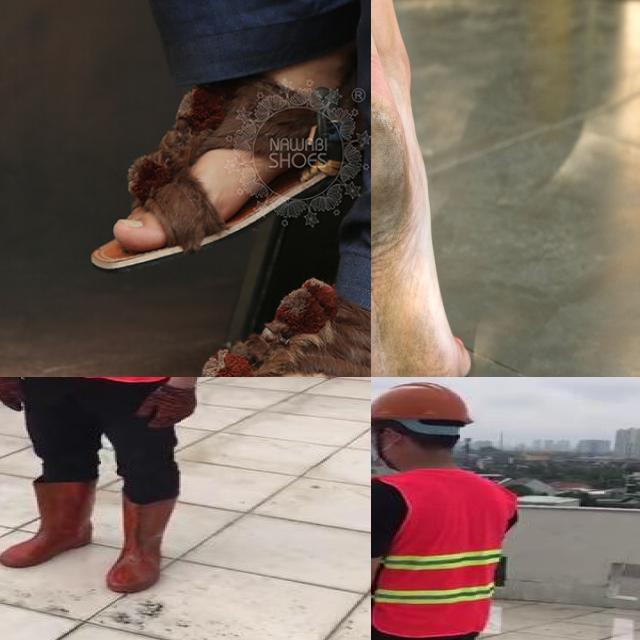Barefoots: (371, 71, 471, 377)
Sandals: (131, 278, 371, 377)
boots: (1, 480, 96, 569), (106, 495, 180, 594)
hand_glove: (133, 383, 197, 428), (0, 377, 28, 412)
head_helmet: (371, 379, 474, 424)
person: (0, 377, 252, 596), (371, 377, 525, 640)
vest: (371, 468, 518, 636)
